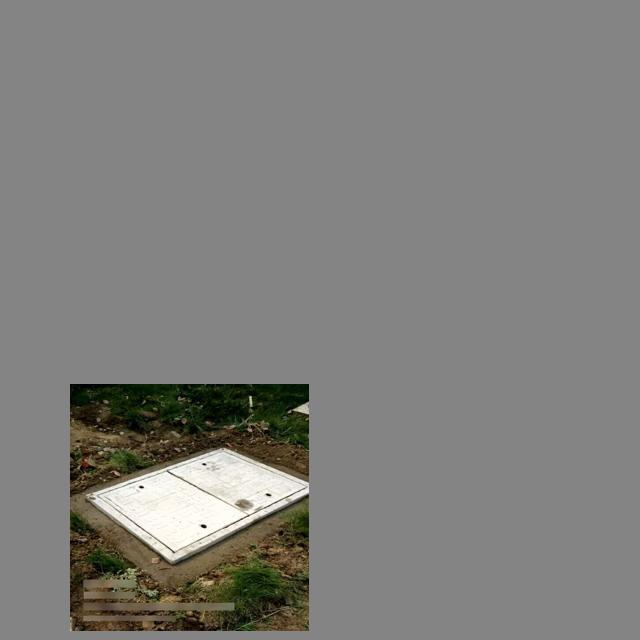good: (84, 447, 309, 565)
